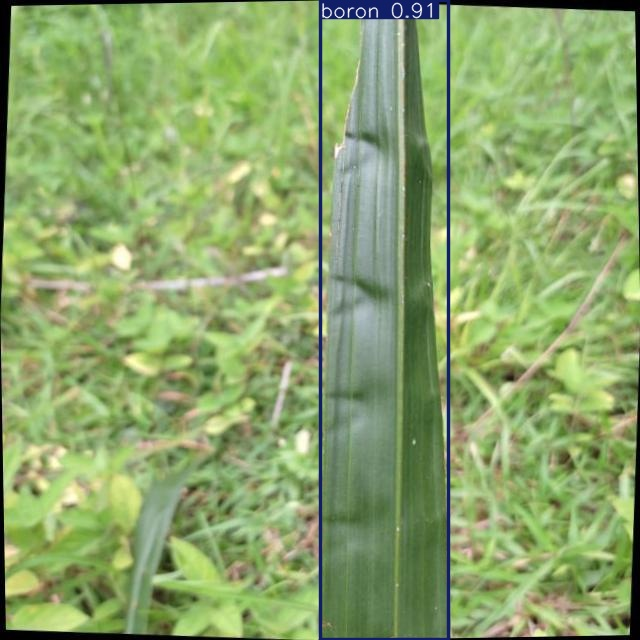nitrogen: (320, 0, 449, 639)
